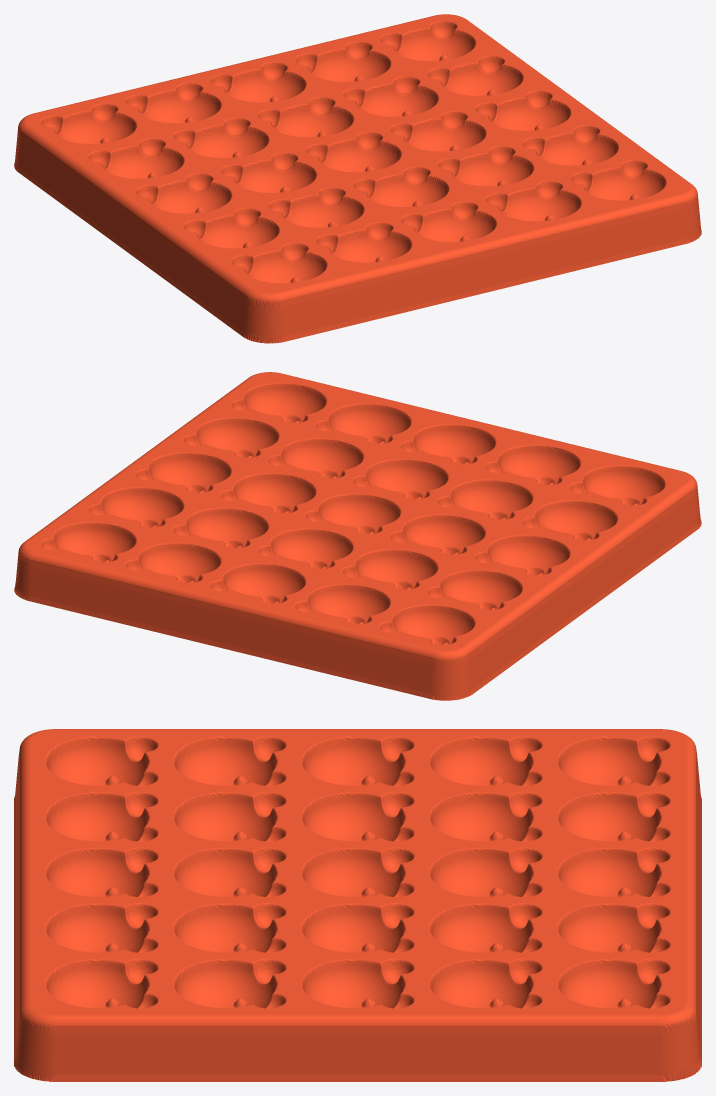
The model's file is mold.glb.
The picture shows the model from 3 angles, top to bottom: view 1: azimuth 30°, elevation 25°; view 2: azimuth 150°, elevation 25°; view 3: azimuth 270°, elevation 25°; orthographic projection. The views are drawn at different scales.
Visible parts, largest first — view 1: geometry_0; view 2: geometry_0; view 3: geometry_0.
Boxes of the visible parts, x1,y1,x2,y2 form: geometry_0: (14, 14, 701, 343); geometry_0: (14, 372, 701, 700); geometry_0: (14, 729, 701, 1081).
Bounding box in the file's own units: 0.1532 × 0.0145 × 0.1493.
